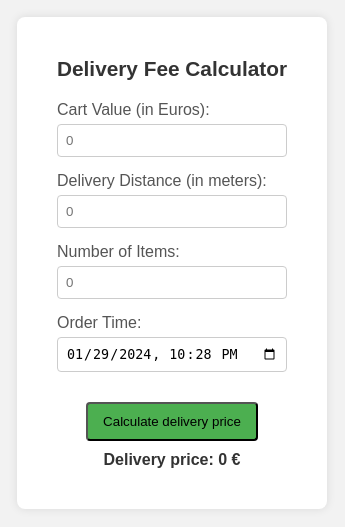
Test: Delivery distance is calculated
Step 1. Click the button with test id "calculateButton" → [172, 422], box x1=86 y1=402 x2=258 y2=441
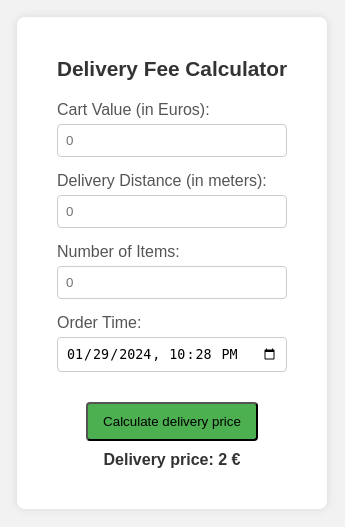
Result: the text with test id "fee" reads "2" at x1=218 y1=451 x2=227 y2=468
